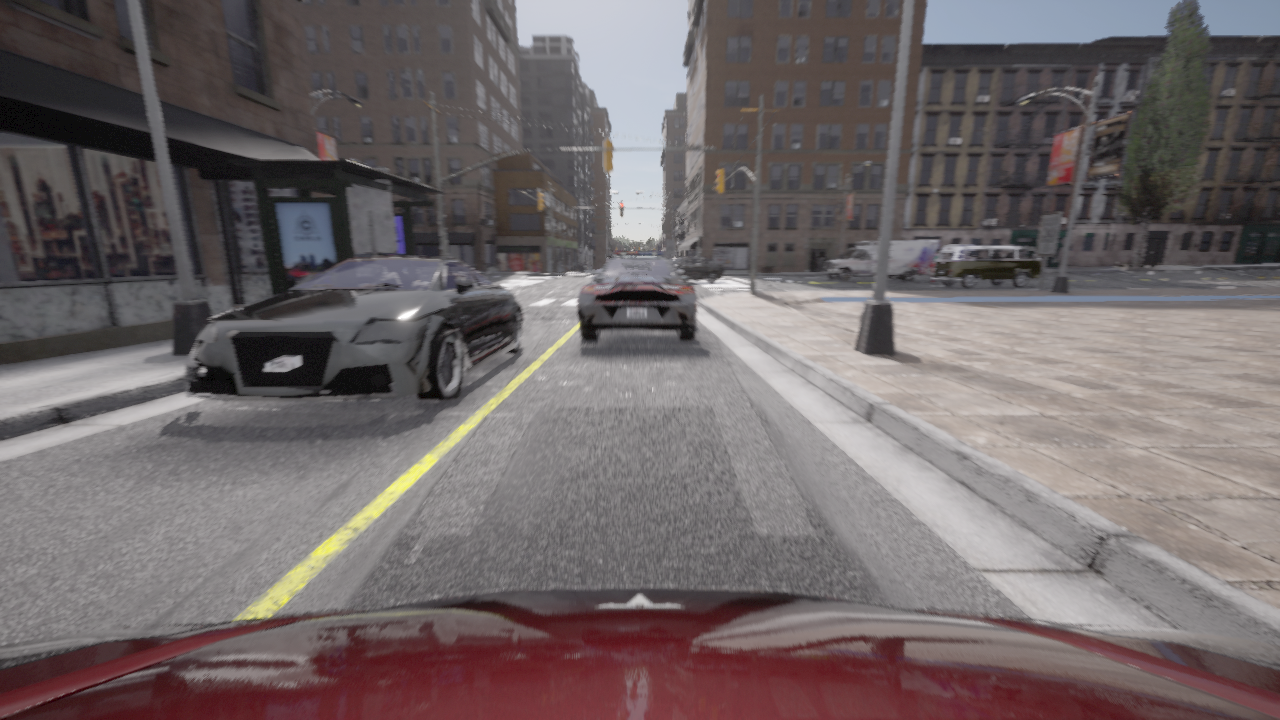cyclist: (0, 588, 1279, 719), (186, 257, 523, 402), (577, 252, 697, 340), (931, 245, 1042, 288), (823, 240, 939, 281), (670, 256, 723, 282)
pedestrian: (929, 250, 938, 283), (607, 256, 608, 261)
